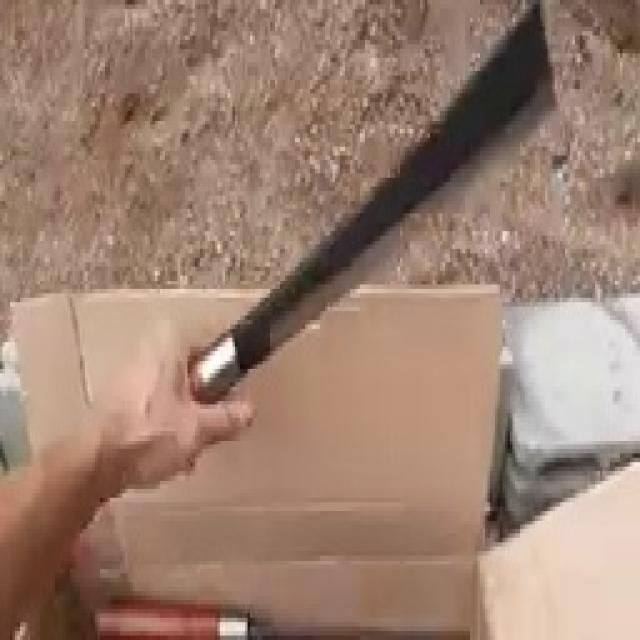eto: (188, 3, 560, 408)
